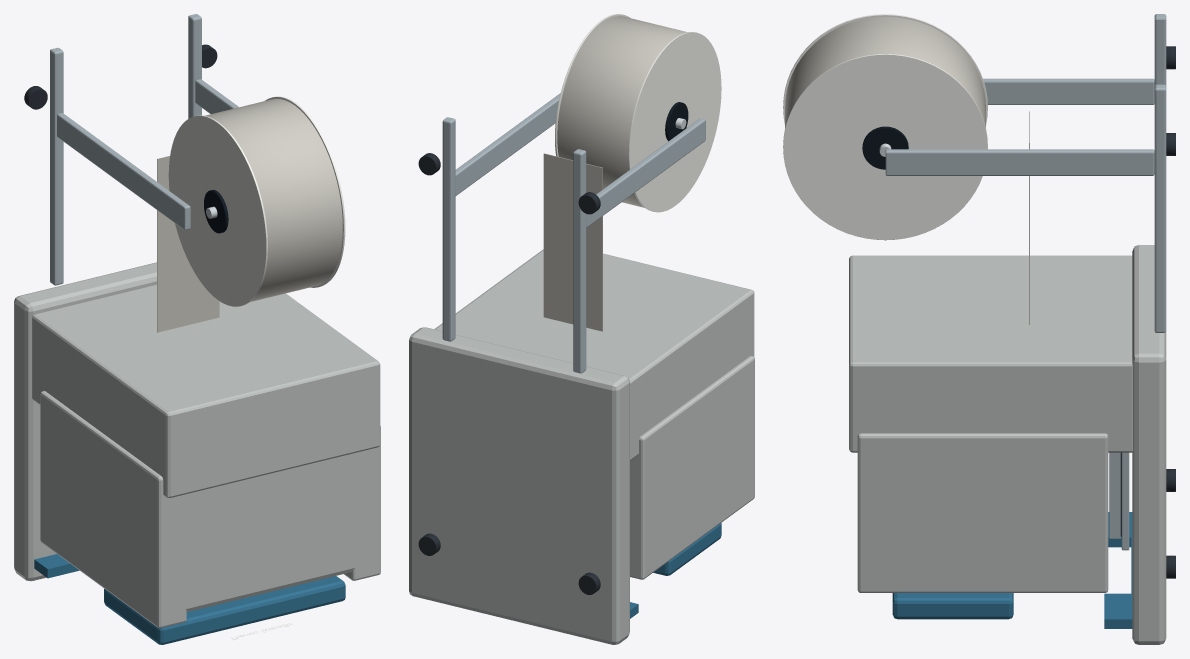
File: thermo_alps300.glb
3 renders of one model, left to right at view 1: azimuth 30°, elevation 25°; view 2: azimuth 150°, elevation 25°; view 3: azimuth 270°, elevation 25°, orthographic. The views are drawn at different scales.
Visible parts, largest first — view 1: Upper_shroud, Foil_feed_web, Supply_flange, Button_bezel, Accent_front_fascia, Film_feed_roller, Cooling_slots 1; view 2: Upper_shroud, Foil_feed_web, Button_bezel, Supply_flange, Film_feed_roller, Accent_front_fascia, Cooling_slots 1; view 3: Upper_shroud, Supply_flange, Button_bezel, Foil_feed_web, Accent_front_fascia, Cooling_slots 1, Film_feed_roller.
Part boxes in pixels (left/top/right/bottom): Upper_shroud: left=14, top=262, right=380, bottom=628; Foil_feed_web: left=157, top=98, right=342, bottom=332; Supply_flange: left=168, top=96, right=345, bottom=306; Button_bezel: left=50, top=14, right=238, bottom=285; Accent_front_fascia: left=34, top=554, right=345, bottom=644; Film_feed_roller: left=24, top=44, right=217, bottom=109; Cooling_slots 1: left=204, top=189, right=228, bottom=233; Upper_shroud: left=409, top=249, right=754, bottom=644; Foil_feed_web: left=543, top=16, right=687, bottom=331; Button_bezel: left=442, top=93, right=705, bottom=373; Supply_flange: left=555, top=14, right=721, bottom=212; Film_feed_roller: left=418, top=153, right=600, bottom=594; Accent_front_fascia: left=630, top=523, right=721, bottom=618; Cooling_slots 1: left=665, top=102, right=688, bottom=141; Upper_shroud: left=849, top=245, right=1166, bottom=644; Supply_flange: left=783, top=14, right=987, bottom=240; Button_bezel: left=885, top=14, right=1166, bottom=550; Foil_feed_web: left=785, top=17, right=1029, bottom=324; Accent_front_fascia: left=892, top=512, right=1132, bottom=628; Cooling_slots 1: left=862, top=126, right=1121, bottom=536; Film_feed_roller: left=1166, top=46, right=1175, bottom=578.
Bounding box in the file's own units: 0.2794 × 0.635 × 0.4064.
